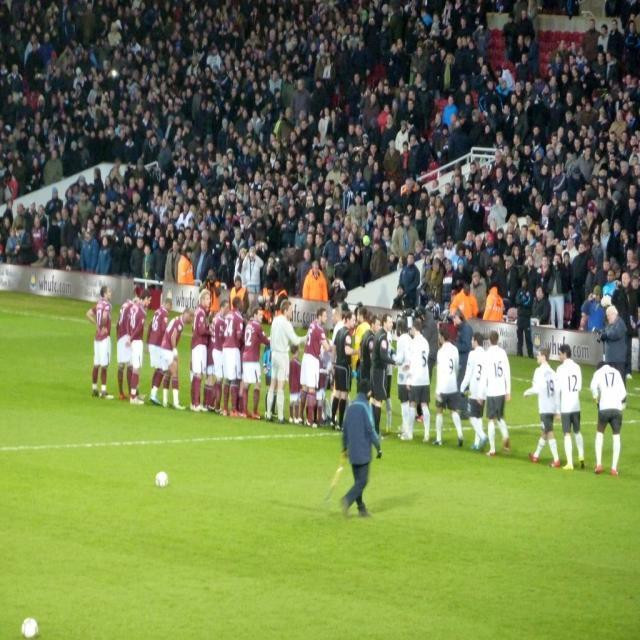ball: (18, 616, 38, 640), (155, 471, 168, 487)
